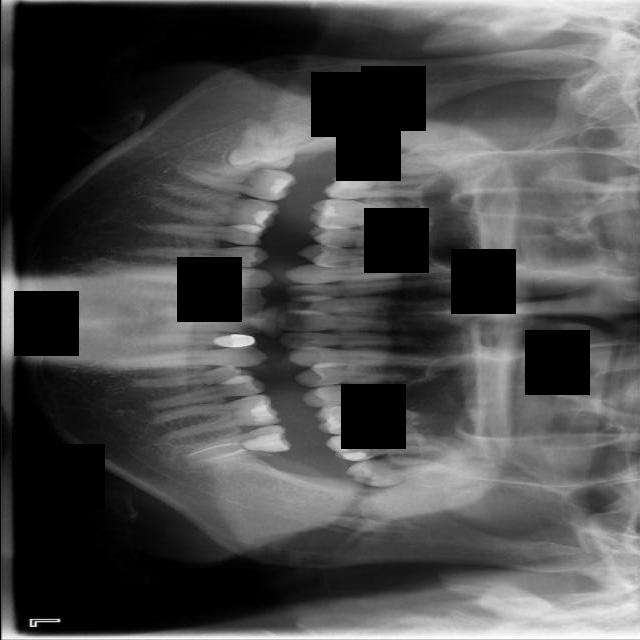3M ESPE Implant: (336, 142, 463, 178)
52: (230, 192, 282, 240), (238, 420, 292, 461), (247, 167, 297, 204), (308, 199, 362, 230), (232, 393, 280, 426), (325, 434, 374, 461), (211, 333, 256, 348)
73: (179, 429, 268, 470), (40, 603, 52, 609)
BioHorizons Implant: (325, 431, 443, 462)
BioLife Implant: (345, 454, 450, 489)
Blue Sky Bio Implant: (178, 421, 292, 474)
Caries: (322, 171, 436, 199)
Implant: (176, 158, 298, 205)
Keystone Dental Implant: (225, 116, 299, 177)
